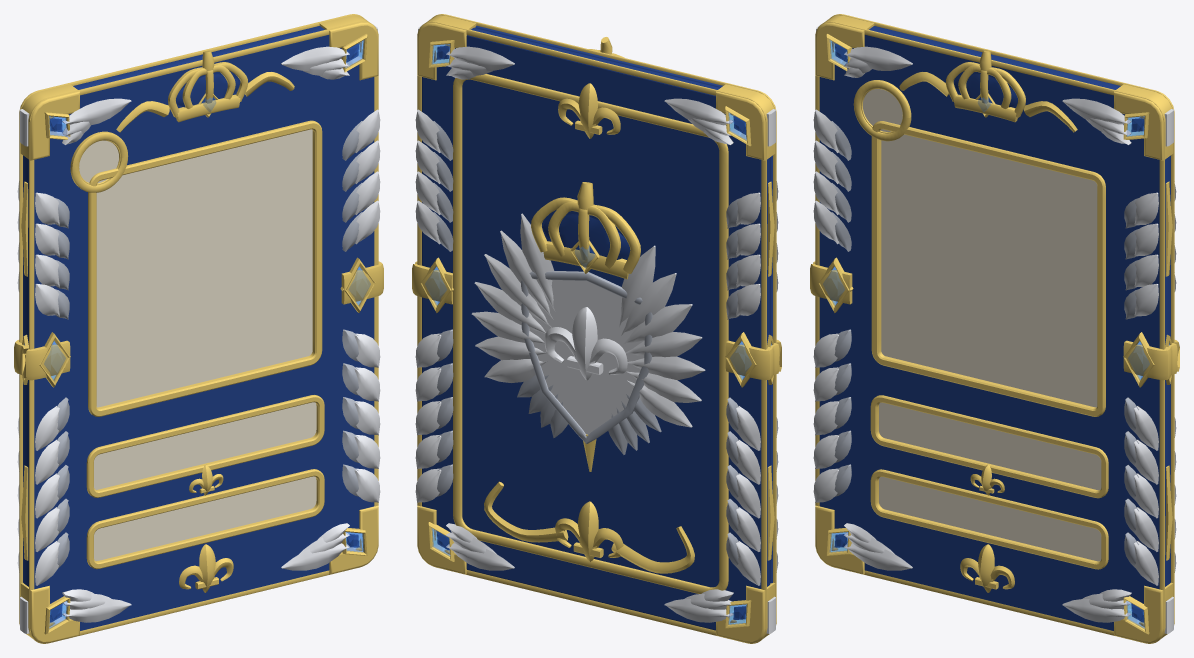
The model's file is card-faction-kingdom.glb.
3 views of the same model, side by side, from view 1: azimuth 30°, elevation 25°; view 2: azimuth 150°, elevation 25°; view 3: azimuth 330°, elevation 25° (orthographic).
Visible parts, largest first — view 1: kingdom-front-shell, kingdom-face-illu, kingdom-rim-illu-rim, kingdom-face-name, kingdom-face-desc, kingdom-front-rail, kingdom-rim-name-rim, kingdom-rim-desc-rim, kingdom-back-rail, kingdom-core-body, corner-wrap-0, corner-wrap-1 (+35 smaller); view 2: kingdom-core-body, back-inner-gold-frame, back-shield-body, kingdom-back-rail, back-shield-rim, kingdom-front-rail, corner-wrap-0, corner-wrap-1, mid-collar--1, corner-wrap-2, back-crown-velvet, kingdom-front-shell (+53 smaller); view 3: kingdom-front-shell, kingdom-face-illu, kingdom-rim-illu-rim, kingdom-face-name, kingdom-face-desc, kingdom-front-rail, kingdom-rim-name-rim, kingdom-rim-desc-rim, kingdom-back-rail, kingdom-core-body, corner-wrap-1, corner-wrap-0 (+35 smaller).
Boxes of the visible parts, x1=… form: kingdom-front-shell: x1=34, y1=35, x2=374, y2=630; kingdom-face-illu: x1=96, y1=129, x2=312, y2=407; kingdom-rim-illu-rim: x1=88, y1=120, x2=322, y2=416; kingdom-face-name: x1=94, y1=402, x2=316, y2=489; kingdom-face-desc: x1=94, y1=476, x2=316, y2=560; kingdom-front-rail: x1=29, y1=21, x2=378, y2=643; kingdom-rim-name-rim: x1=86, y1=395, x2=324, y2=497; kingdom-rim-desc-rim: x1=86, y1=469, x2=324, y2=569; kingdom-back-rail: x1=19, y1=14, x2=363, y2=624; kingdom-core-body: x1=23, y1=26, x2=324, y2=586; corner-wrap-0: x1=20, y1=84, x2=79, y2=160; corner-wrap-1: x1=319, y1=15, x2=378, y2=80; kingdom-core-body: x1=422, y1=27, x2=770, y2=630; back-inner-gold-frame: x1=453, y1=74, x2=728, y2=593; back-shield-body: x1=529, y1=280, x2=644, y2=434; kingdom-back-rail: x1=417, y1=21, x2=766, y2=643; back-shield-rim: x1=521, y1=271, x2=652, y2=444; kingdom-front-rail: x1=432, y1=14, x2=776, y2=624; corner-wrap-0: x1=716, y1=84, x2=775, y2=160; corner-wrap-1: x1=417, y1=15, x2=476, y2=80; mid-collar--1: x1=725, y1=340, x2=781, y2=380; corner-wrap-2: x1=716, y1=582, x2=775, y2=643; back-crown-velvet: x1=543, y1=214, x2=630, y2=259; kingdom-front-shell: x1=475, y1=25, x2=772, y2=583; kingdom-front-shell: x1=819, y1=35, x2=1159, y2=630; kingdom-face-illu: x1=881, y1=134, x2=1097, y2=407; kingdom-rim-illu-rim: x1=871, y1=121, x2=1105, y2=416; kingdom-face-name: x1=879, y1=402, x2=1101, y2=490; kingdom-face-desc: x1=879, y1=477, x2=1101, y2=561; kingdom-front-rail: x1=815, y1=21, x2=1164, y2=643; kingdom-rim-name-rim: x1=870, y1=395, x2=1108, y2=498; kingdom-rim-desc-rim: x1=870, y1=469, x2=1108, y2=569; kingdom-back-rail: x1=830, y1=14, x2=1174, y2=624; kingdom-core-body: x1=869, y1=26, x2=1170, y2=586; corner-wrap-1: x1=1114, y1=84, x2=1173, y2=160; corner-wrap-0: x1=815, y1=15, x2=874, y2=80.
Bounding box in the file's own units: 0.9777 × 1.45 × 0.136.
